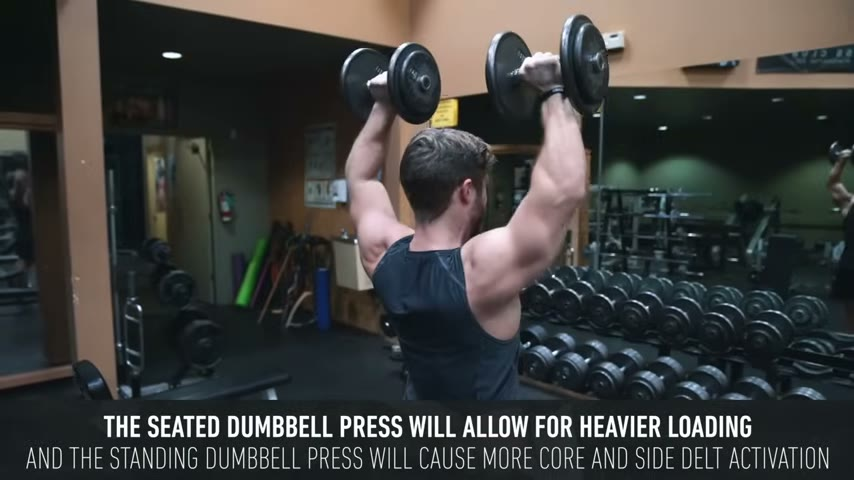barbell_plate_side: (574, 8, 629, 121)
